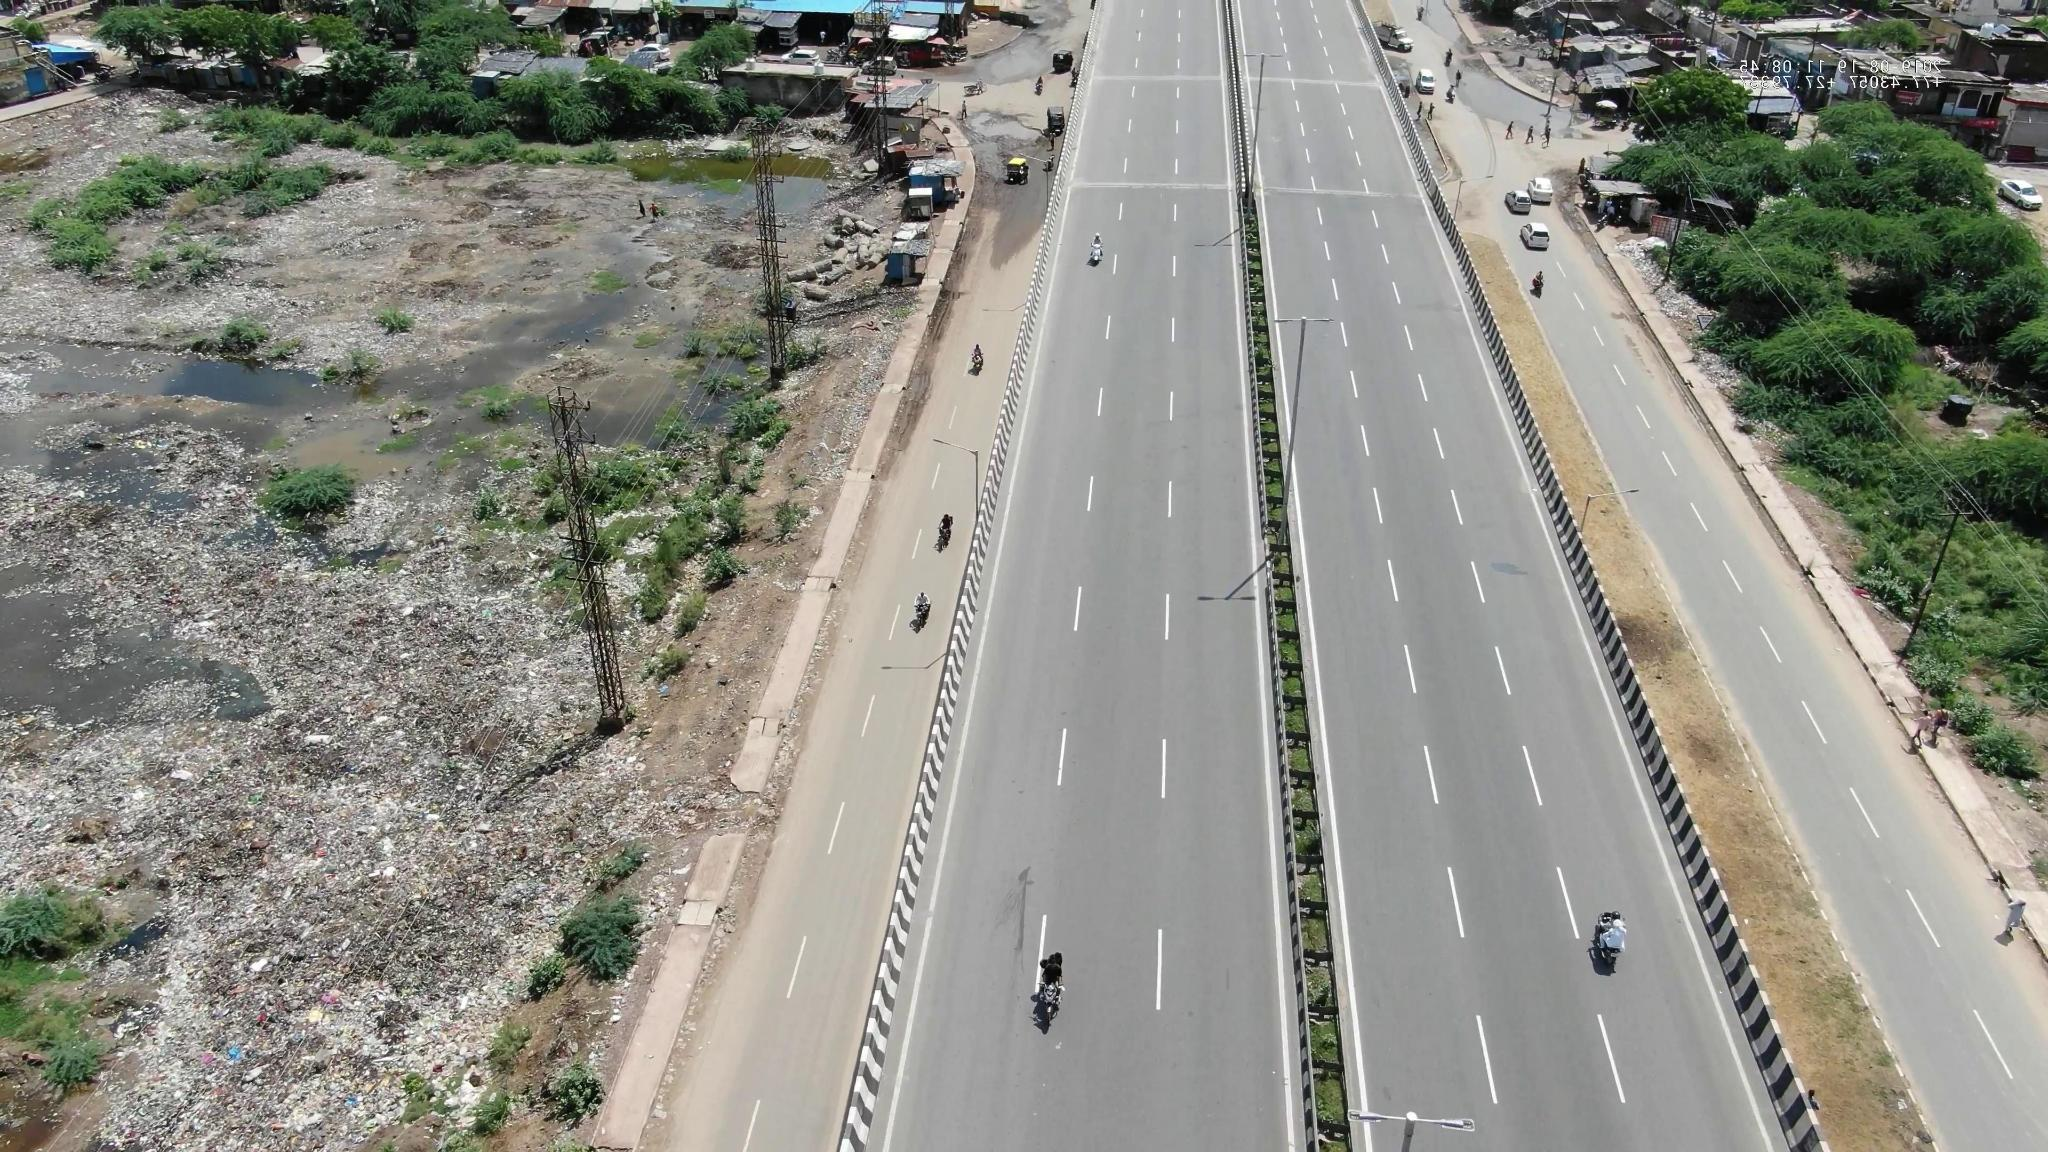Road_side_garbage: (255, 640, 529, 1122)
